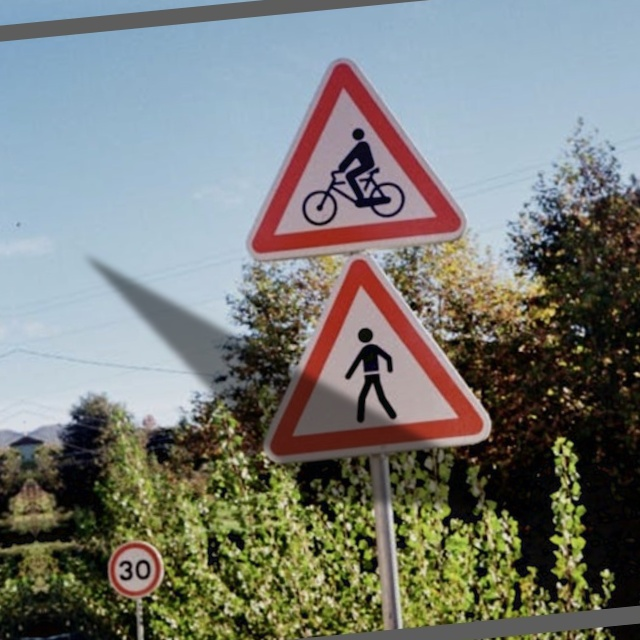Cycle_Crossing: (236, 43, 471, 260)
